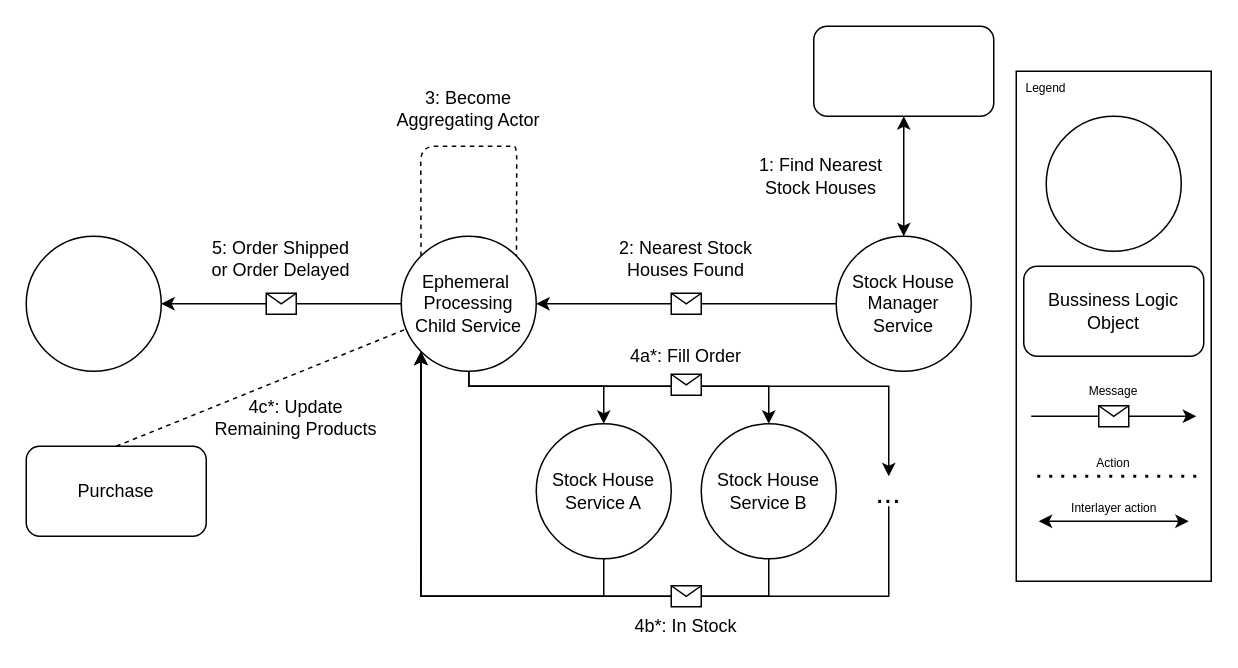
The diagram is 1238 pixels wide and 668 high, and some of its shapes have lost their labels. The box of each missing label's shape, as (x1, y1, x2, y2) in pixels:
Communication Logic Object: (1045, 115, 1181, 251)
Ephemeral Client Child Service: (25, 235, 161, 371)
Stock House Manager: (812, 25, 994, 116)
